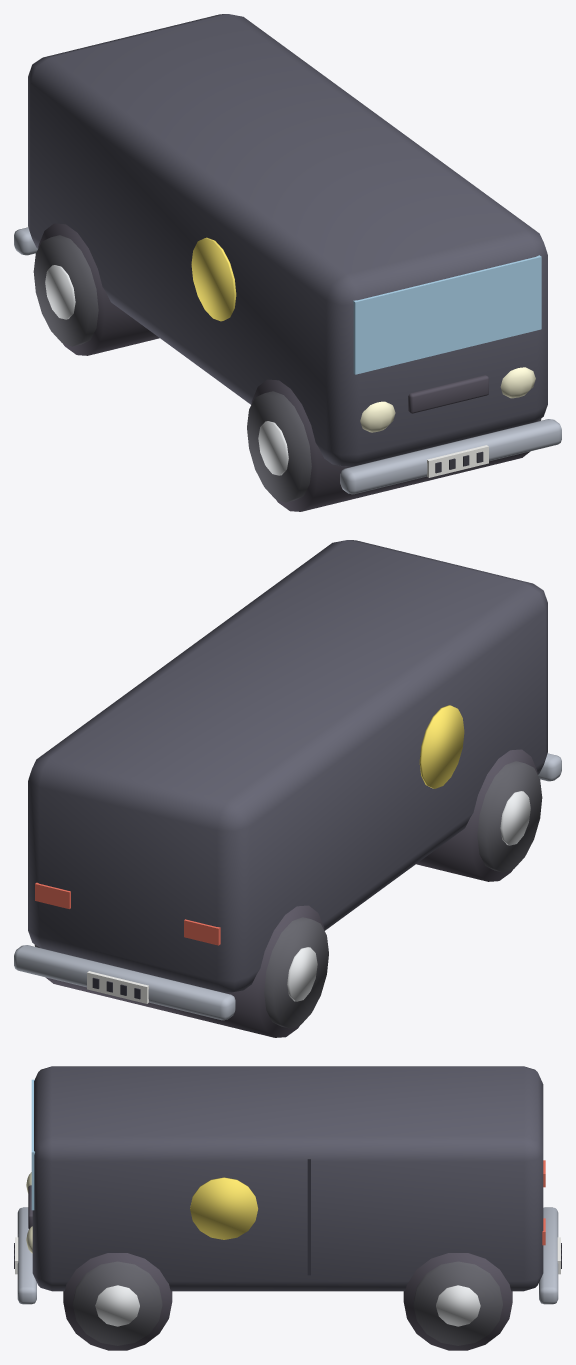
Rendered from Car_VanHitam.fbx.
The picture shows the model from 3 angles, top to bottom: view 1: azimuth 30°, elevation 25°; view 2: azimuth 150°, elevation 25°; view 3: azimuth 270°, elevation 25°; orthographic projection. The views are drawn at different scales.
Visible parts, largest first — view 1: Body, Wheel_FL, Wheel_RL; view 2: Body, Wheel_RL, Wheel_FL; view 3: Body, Wheel_FR, Wheel_RR.
Boxes of the visible parts, x1=… form: Body: x1=14, y1=14, x2=561, y2=511; Wheel_FL: x1=247, y1=391, x2=311, y2=502; Wheel_RL: x1=33, y1=235, x2=98, y2=346; Body: x1=14, y1=540, x2=561, y2=1037; Wheel_RL: x1=264, y1=917, x2=328, y2=1028; Wheel_FL: x1=477, y1=761, x2=542, y2=872; Body: x1=14, y1=1066, x2=561, y2=1350; Wheel_FR: x1=73, y1=1261, x2=162, y2=1345; Wheel_RR: x1=413, y1=1261, x2=502, y2=1345.
Bounding box in the file's own units: 2.12 × 2.13 × 5.15.
